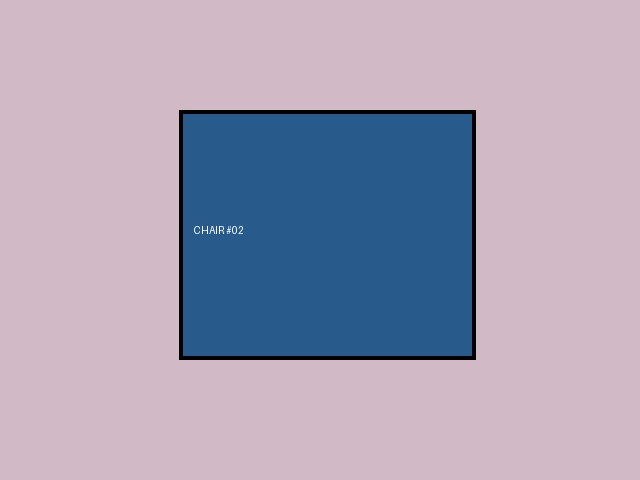chair: (179, 110, 475, 359)
